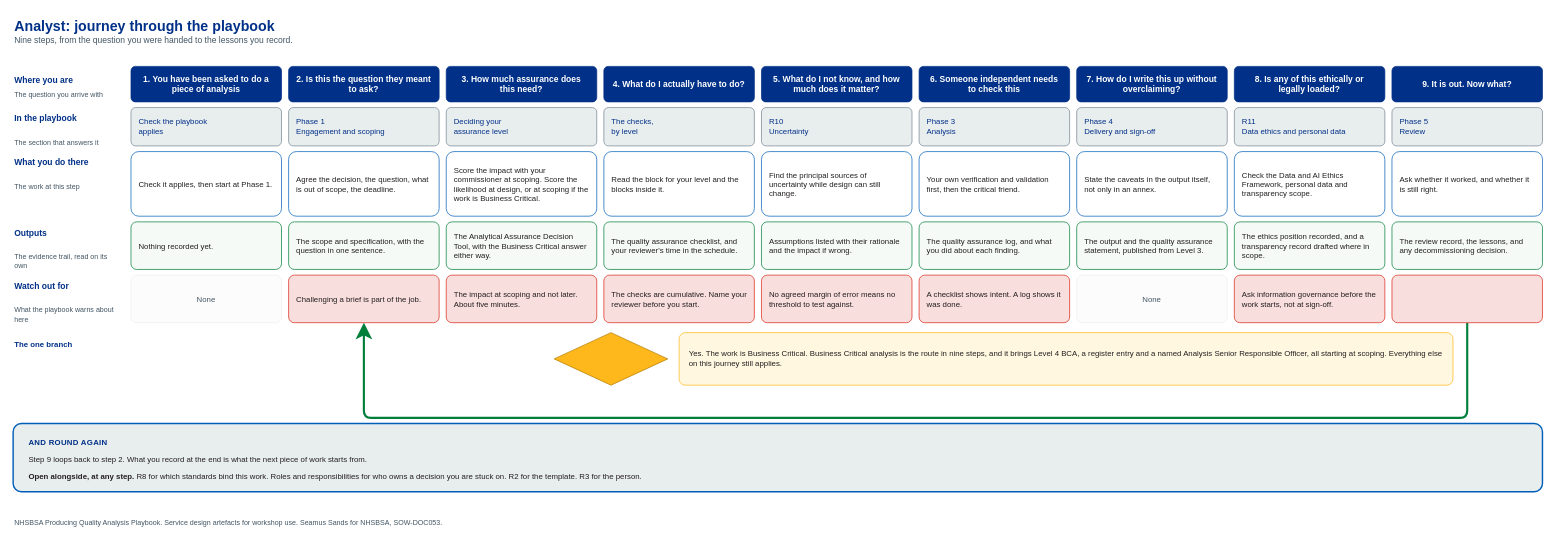
Some shapes in this 1555 by 539 pixel diagram are drawn without their labels. Each missing label, with the centre of its shape:
Any one impact dimension at 4?: the point at 610,358
At Level 1 the review is yours to own.: the point at 1466,298
